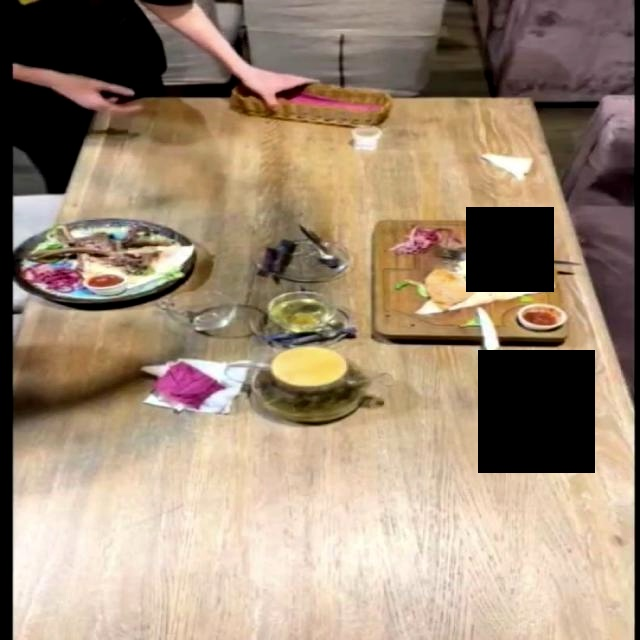meat: (369, 218, 569, 346), (10, 207, 194, 304)
tea: (199, 329, 387, 438)
